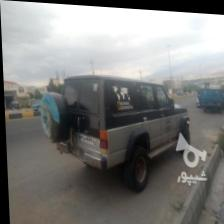plate: (76, 132, 96, 145)
